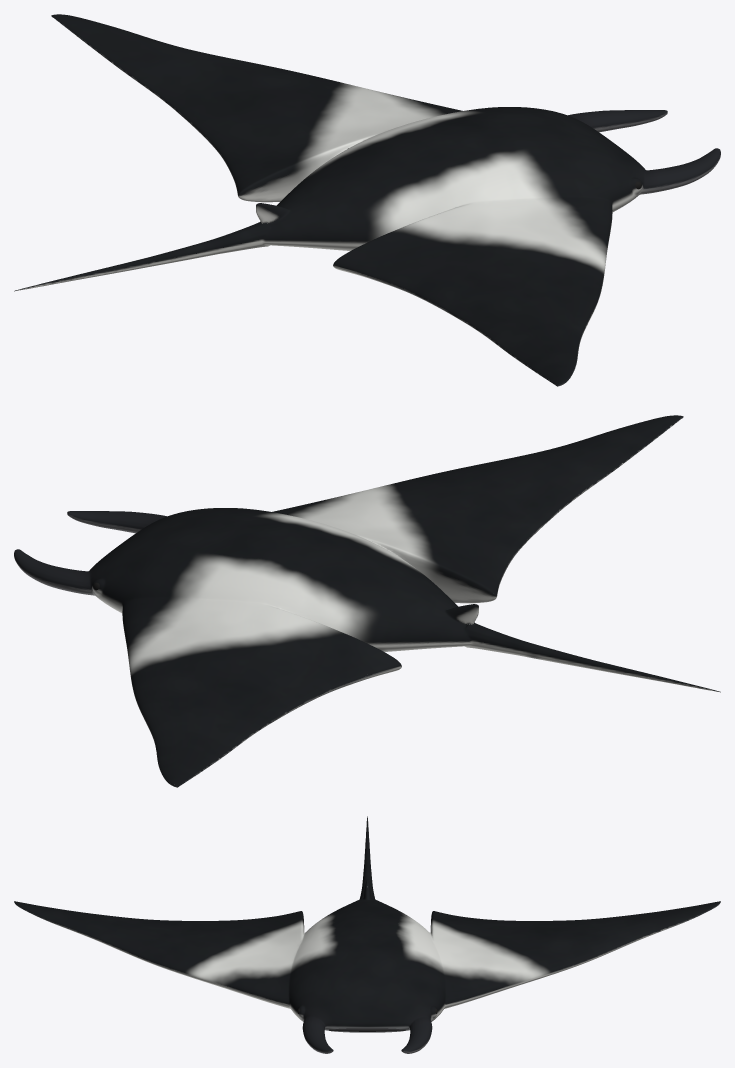
File: GiantManta.glb
The picture shows the model from 3 angles, top to bottom: view 1: azimuth 30°, elevation 25°; view 2: azimuth 150°, elevation 25°; view 3: azimuth 270°, elevation 25°; orthographic projection. The views are drawn at different scales.
Parts seen in each view (by area): view 1: Continuous anatomical skin | manta_ray; view 2: Continuous anatomical skin | manta_ray; view 3: Continuous anatomical skin | manta_ray.
Part boxes in pixels (box(x1,y1,x2,y2)): Continuous anatomical skin | manta_ray: box(14, 14, 720, 386); Continuous anatomical skin | manta_ray: box(14, 415, 720, 787); Continuous anatomical skin | manta_ray: box(14, 816, 720, 1053).
Bounding box in the file's own units: 3.5 × 0.4376 × 4.52.
Materials: 4 (4 with a texture image).
